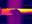Hotspot: (18, 9, 31, 13)
